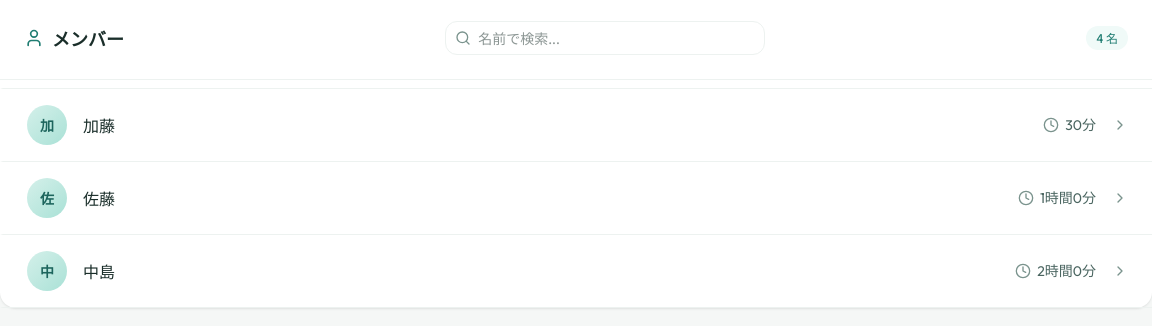
Test: MemberList › インクリメンタルサーチ › 大文字・小文字を区別せずに検索できること
Type "alice" into the field with placeholder "名前で検索..." at (605, 38), box [445,21,765,55]
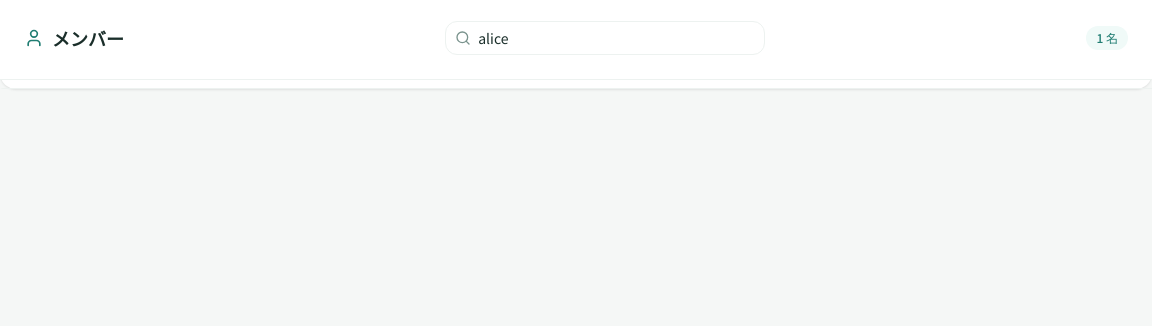
Expected: the heading "Alice" is shown, [83,40,119,64]
Result: the number of elements with test id "member-row" is 1 at [0,16,1151,89]
